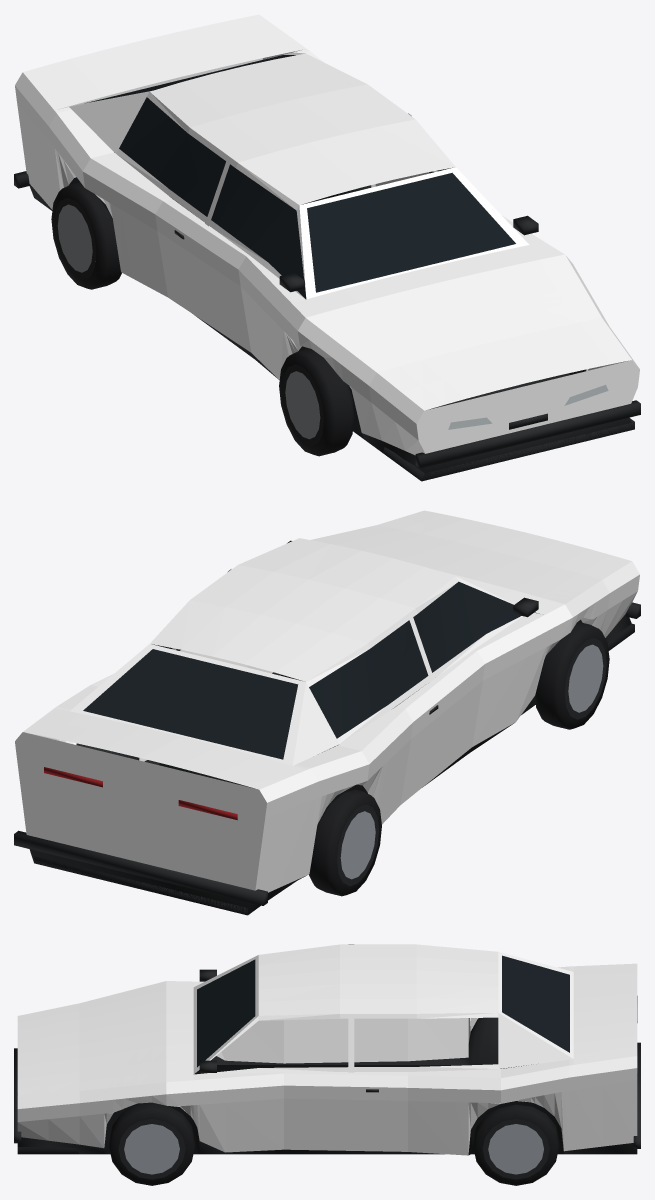
File: morel_odorico.glb
The picture shows the model from 3 angles, top to bottom: view 1: azimuth 30°, elevation 25°; view 2: azimuth 150°, elevation 25°; view 3: azimuth 270°, elevation 25°; orthographic projection. The views are drawn at different scales.
Visible parts, largest first — view 1: Body_Paint, Body_Details, Mount_FrontLeft_Wheel_Details, Mount_RearLeft_Wheel_Details; view 2: Body_Paint, Body_Details, Mount_FrontLeft_Wheel_Details, Mount_RearLeft_Wheel_Details; view 3: Body_Paint, Body_Details, Mount_FrontRight_Wheel_Details, Mount_RearRight_Wheel_Details.
Part boxes in pixels (x1,y1,x2,y2): Body_Paint: [15, 14, 639, 455]; Body_Details: [14, 55, 640, 481]; Mount_FrontLeft_Wheel_Details: [279, 348, 354, 456]; Mount_RearLeft_Wheel_Details: [51, 182, 121, 289]; Body_Paint: [15, 510, 639, 892]; Body_Details: [14, 540, 640, 915]; Mount_FrontLeft_Wheel_Details: [534, 621, 609, 729]; Mount_RearLeft_Wheel_Details: [309, 789, 381, 896]; Body_Paint: [17, 944, 637, 1155]; Body_Details: [14, 955, 640, 1154]; Mount_FrontRight_Wheel_Details: [109, 1102, 194, 1185]; Mount_RearRight_Wheel_Details: [473, 1104, 559, 1185].
Size of the model in its own units: 2 by 1.3 by 4.74.
Materials: 2 (1 with a texture image).
